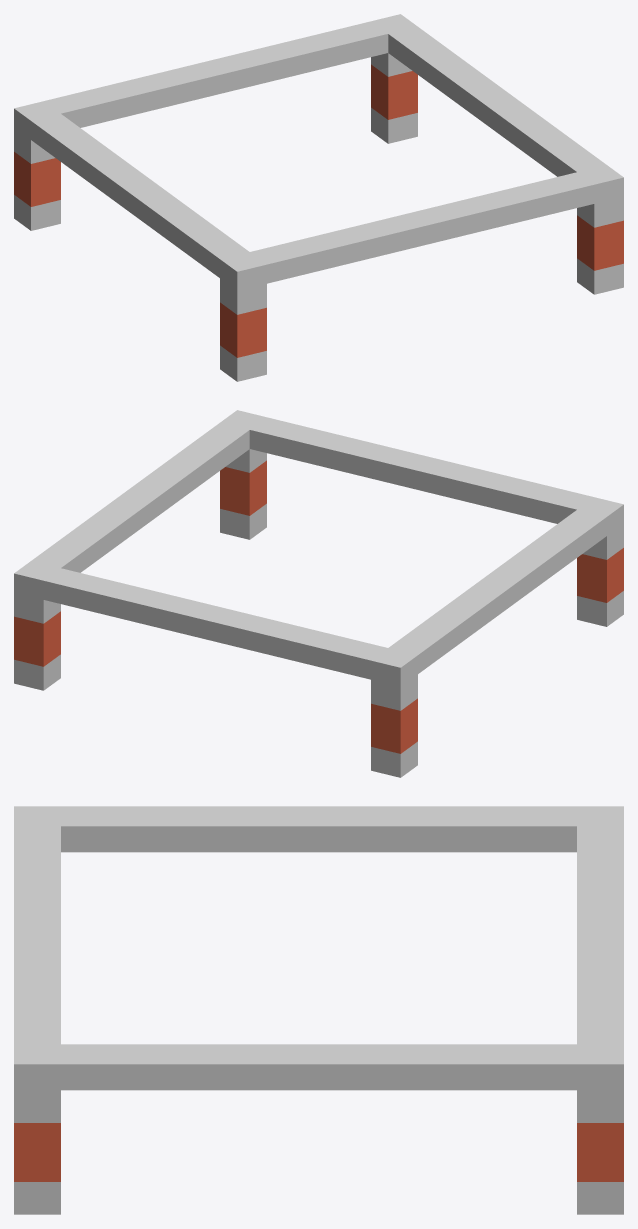
The model's file is frameLow.glb.
3 renders of one model, top to bottom at view 1: azimuth 30°, elevation 25°; view 2: azimuth 150°, elevation 25°; view 3: azimuth 270°, elevation 25°, orthographic. The views are drawn at different scales.
Parts seen in each view (by area): view 1: frameLow; view 2: frameLow; view 3: frameLow.
Part boxes in pixels (x1,y1,x2,y2): frameLow: (14,14,623,381); frameLow: (14,410,623,777); frameLow: (14,806,623,1214).
Bounding box in the file's own units: 8.45 × 2.3 × 8.45.
